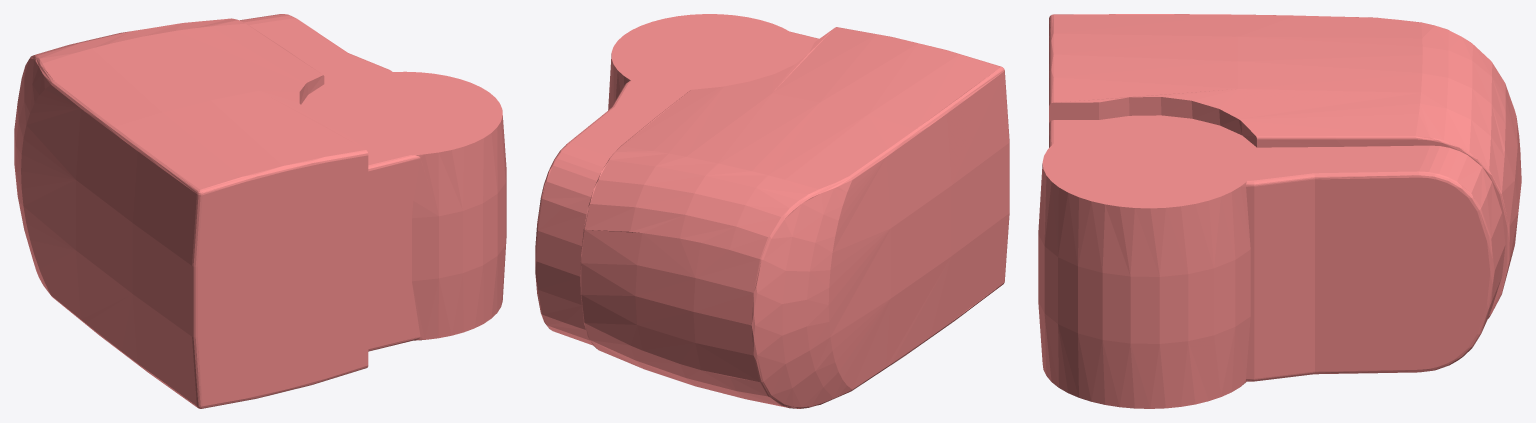
Rendered from body2_3.obj.
The picture shows the model from 3 angles, left to right: view 1: azimuth 30°, elevation 25°; view 2: azimuth 150°, elevation 25°; view 3: azimuth 270°, elevation 25°; orthographic projection. The views are drawn at different scales.
Visible parts, largest first — view 1: Body3.003; view 2: Body3.003; view 3: Body3.003.
Part boxes in pixels (left/top/right/bottom): Body3.003: left=14, top=14, right=506, bottom=408; Body3.003: left=535, top=14, right=1009, bottom=408; Body3.003: left=1038, top=14, right=1521, bottom=408.
Size of the model in its own units: 185 by 116 by 208.
